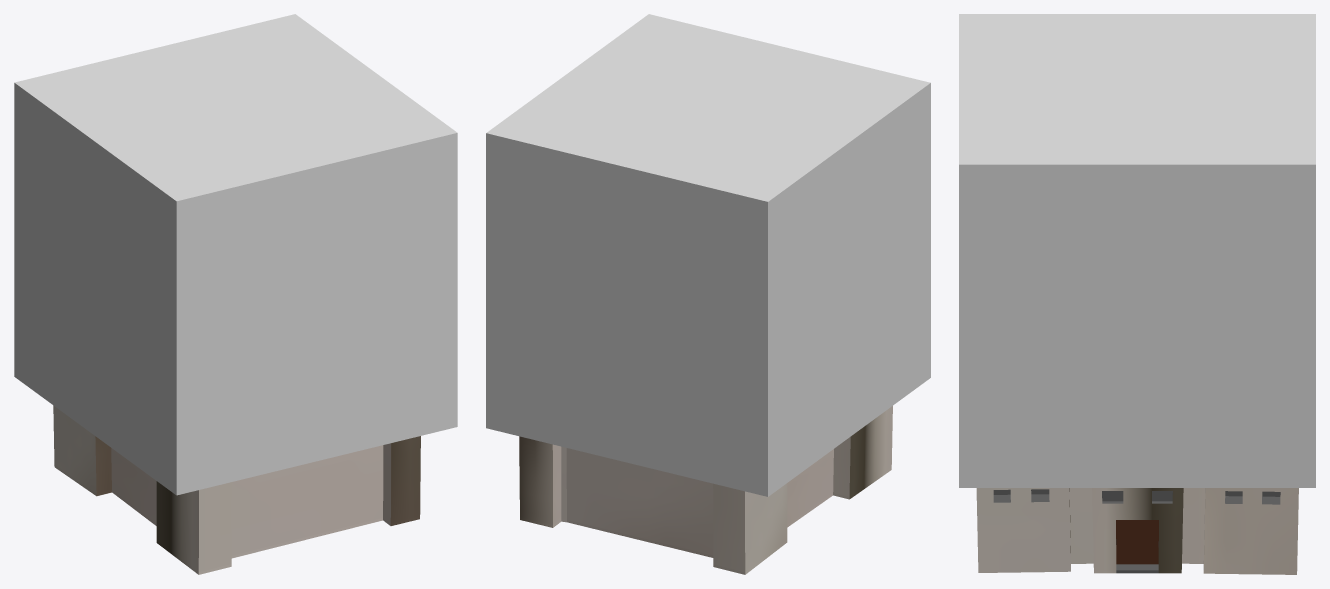
File: 5castle.fbx
3 renders of one model, left to right at view 1: azimuth 30°, elevation 25°; view 2: azimuth 150°, elevation 25°; view 3: azimuth 270°, elevation 25°, orthographic. The views are drawn at different scales.
Parts seen in each view (by area): view 1: Cube.003, Cube; view 2: Cube.003, Cube; view 3: Cube.003, Cube.
Part boxes in pixels (x1=…): Cube.003: x1=14, y1=14, x2=457, y2=495; Cube: x1=53, y1=405, x2=420, y2=574; Cube.003: x1=486, y1=14, x2=930, y2=496; Cube: x1=519, y1=406, x2=892, y2=574; Cube.003: x1=959, y1=14, x2=1315, y2=487; Cube: x1=976, y1=488, x2=1298, y2=574.
Bounding box in the file's own units: 1708 × 2249 × 1708.
